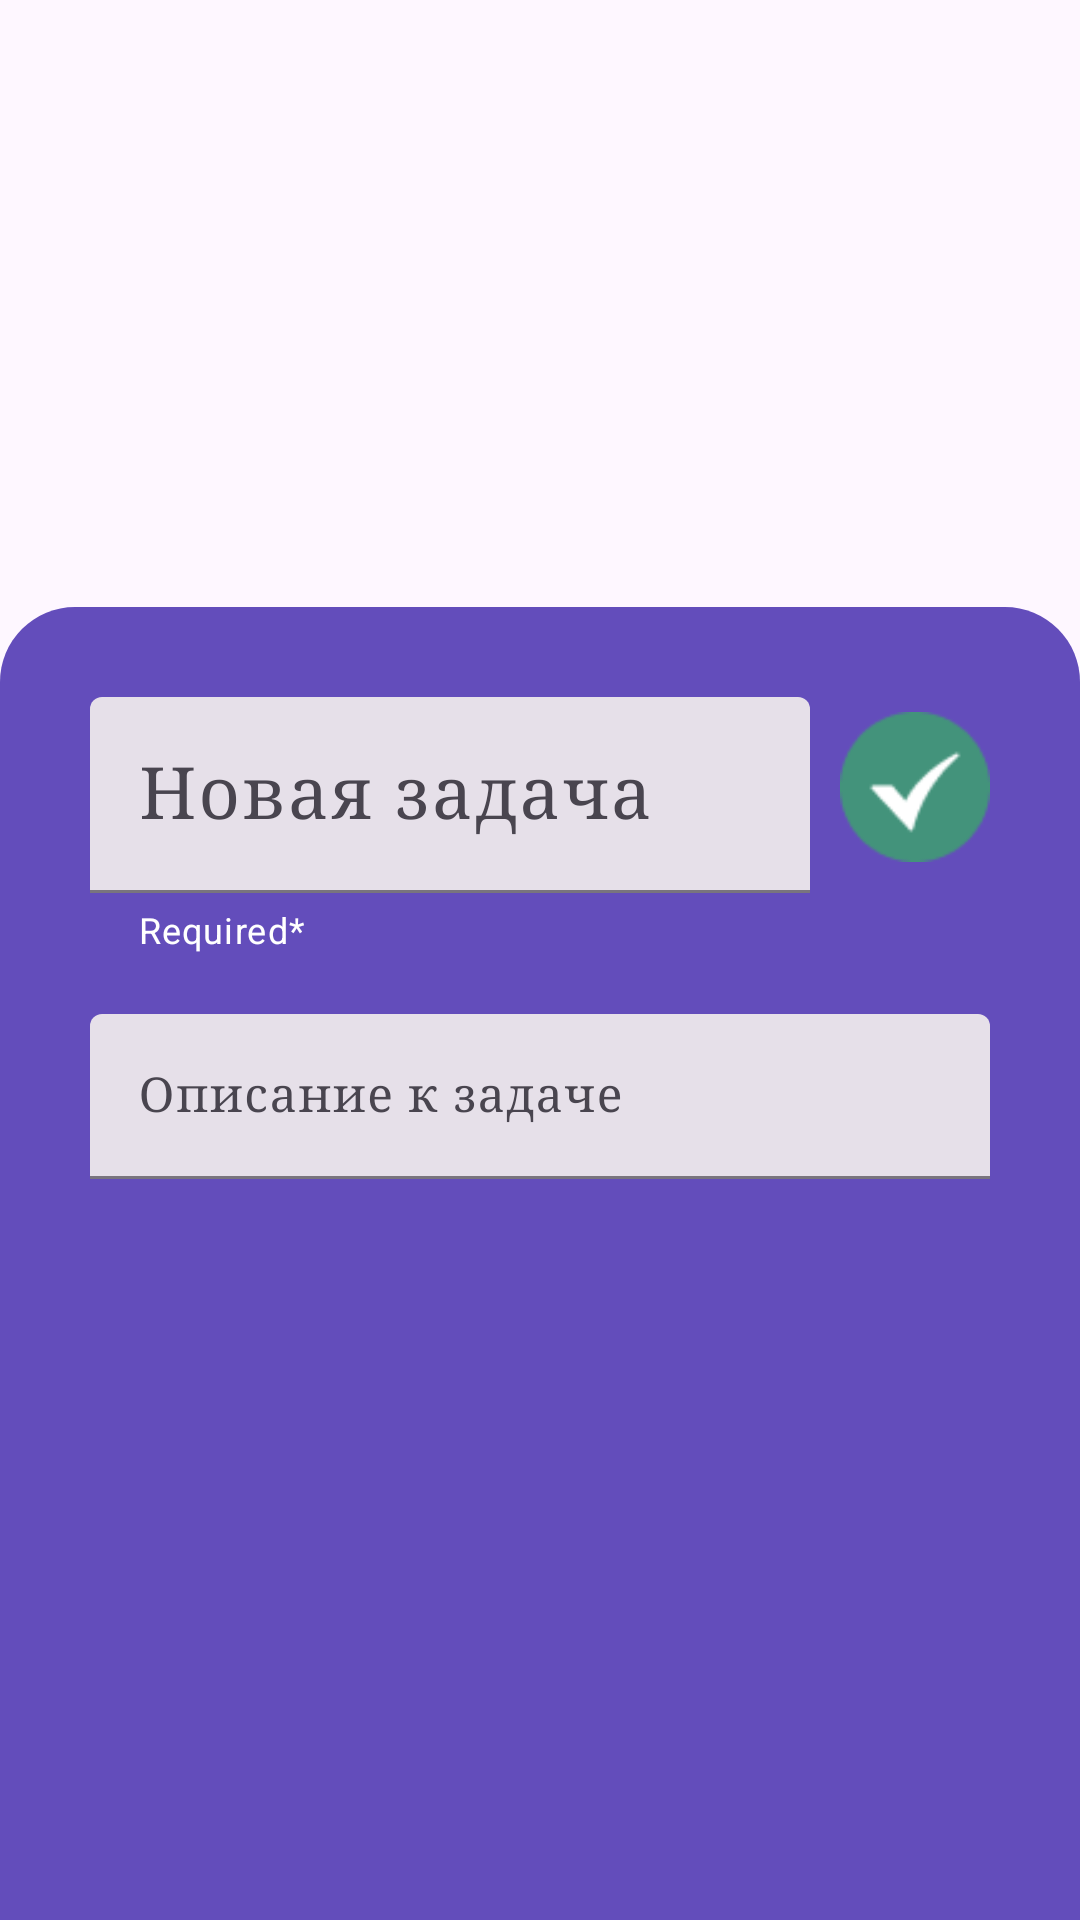

Named icons in this screenshot (1080 x 1920) and their centers, point (x, y):
done: point (915, 787)
